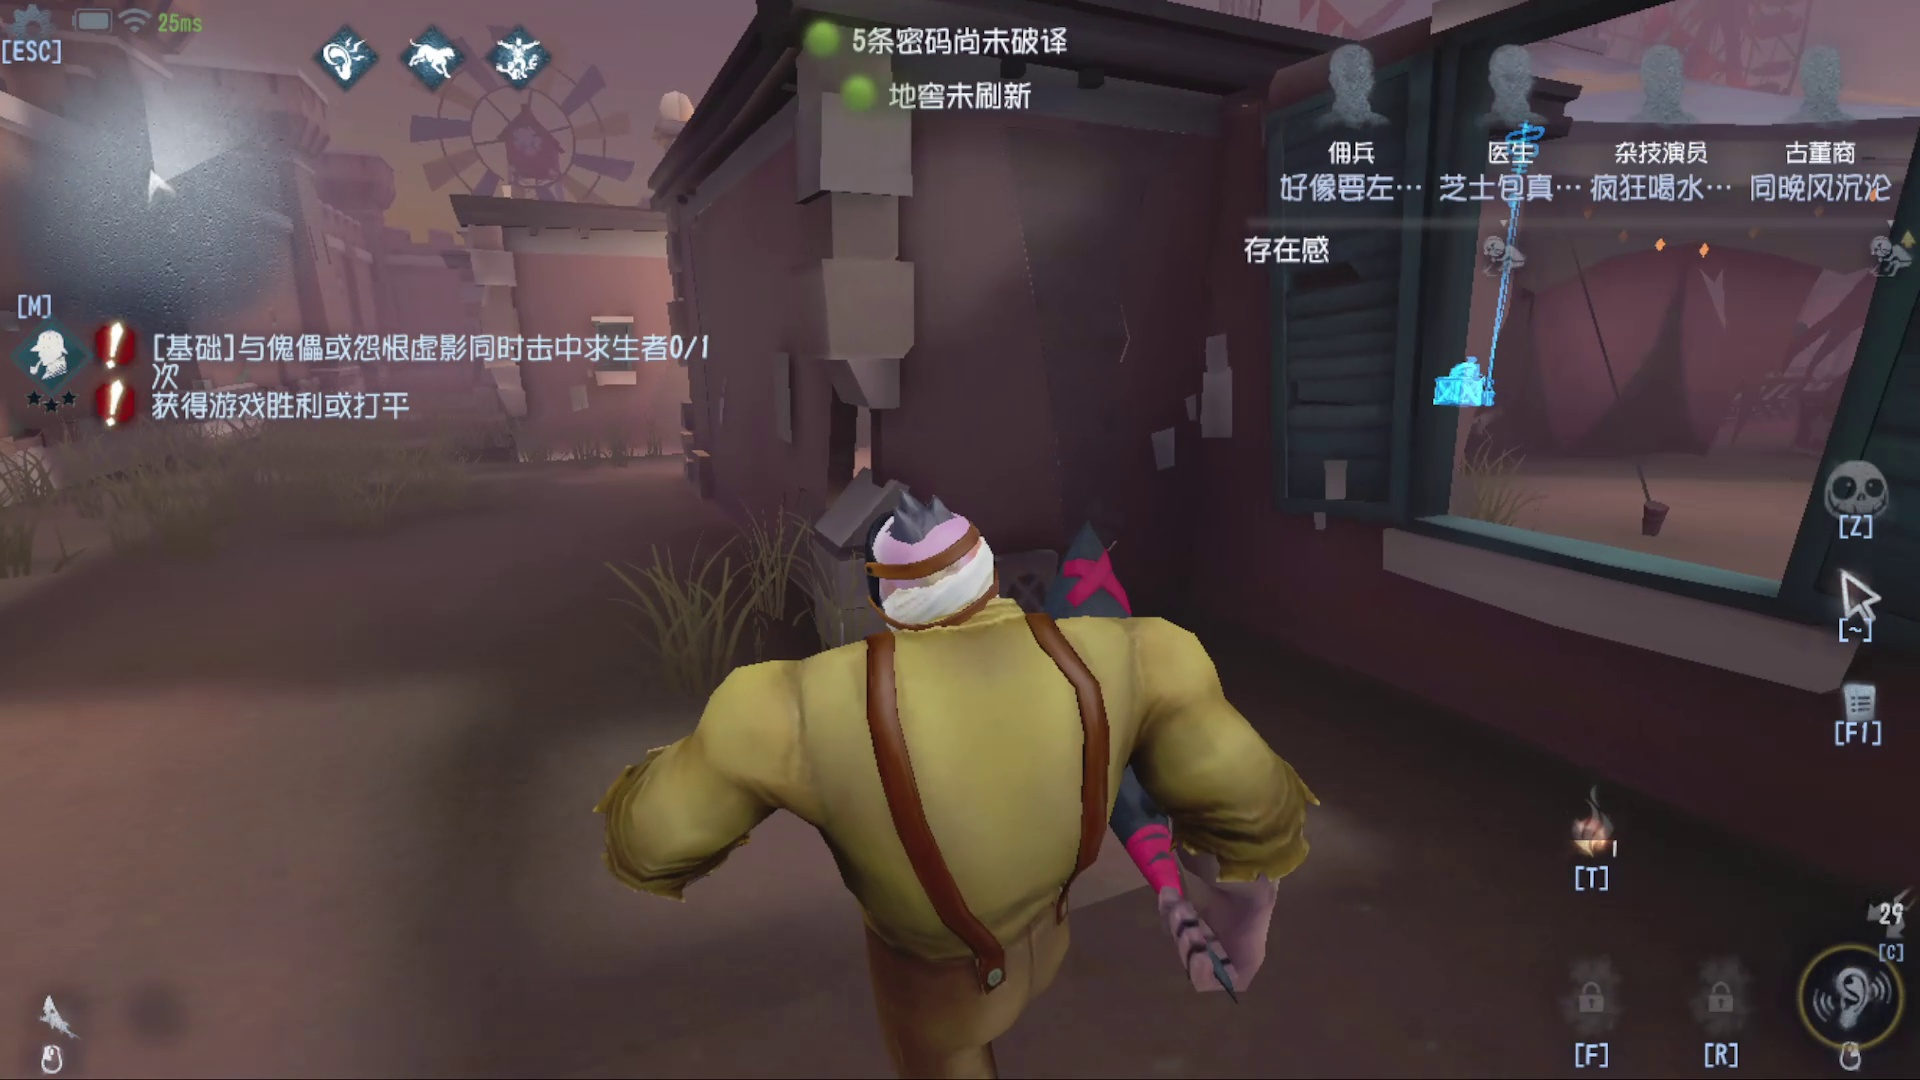密码机: (1419, 113, 1567, 417)
